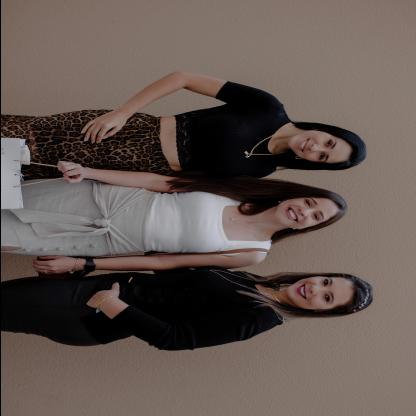Eye: (324, 138, 334, 148), (321, 293, 331, 303), (302, 199, 312, 208), (320, 278, 330, 286), (316, 153, 326, 161), (311, 212, 319, 221)
Mouth: (297, 138, 310, 154), (284, 206, 296, 223), (295, 284, 307, 300)
Nose: (309, 285, 325, 296), (296, 208, 312, 218), (307, 144, 322, 153)
